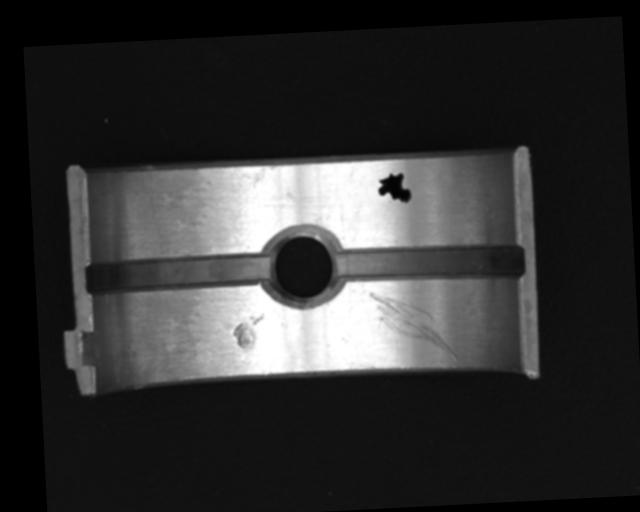blot: (376, 171, 412, 205)
bruise: (231, 312, 265, 349)
gap: (332, 240, 524, 287), (84, 253, 271, 295)
hole: (263, 224, 345, 307)
nick: (369, 288, 459, 366)
